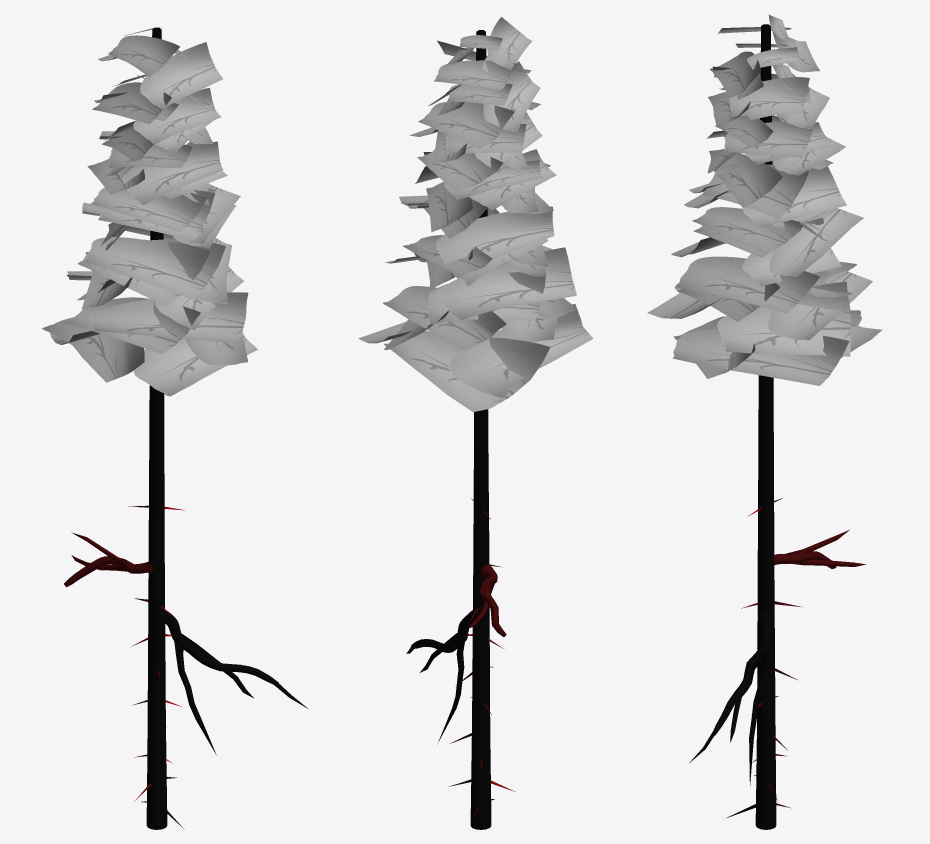
File: M_Pine_5_11.fbx
The picture shows the model from 3 angles, left to right: view 1: azimuth 30°, elevation 25°; view 2: azimuth 150°, elevation 25°; view 3: azimuth 270°, elevation 25°; orthographic projection.
Parts seen in each view (by area): view 1: Mobile_Pine_11; view 2: Mobile_Pine_11; view 3: Mobile_Pine_11.
Part boxes in pixels (x1=…): Mobile_Pine_11: x1=42, y1=27, x2=307, y2=829; Mobile_Pine_11: x1=358, y1=17, x2=593, y2=829; Mobile_Pine_11: x1=647, y1=15, x2=882, y2=829.
Bounding box in the file's own units: 1515 × 4838 × 1576.
